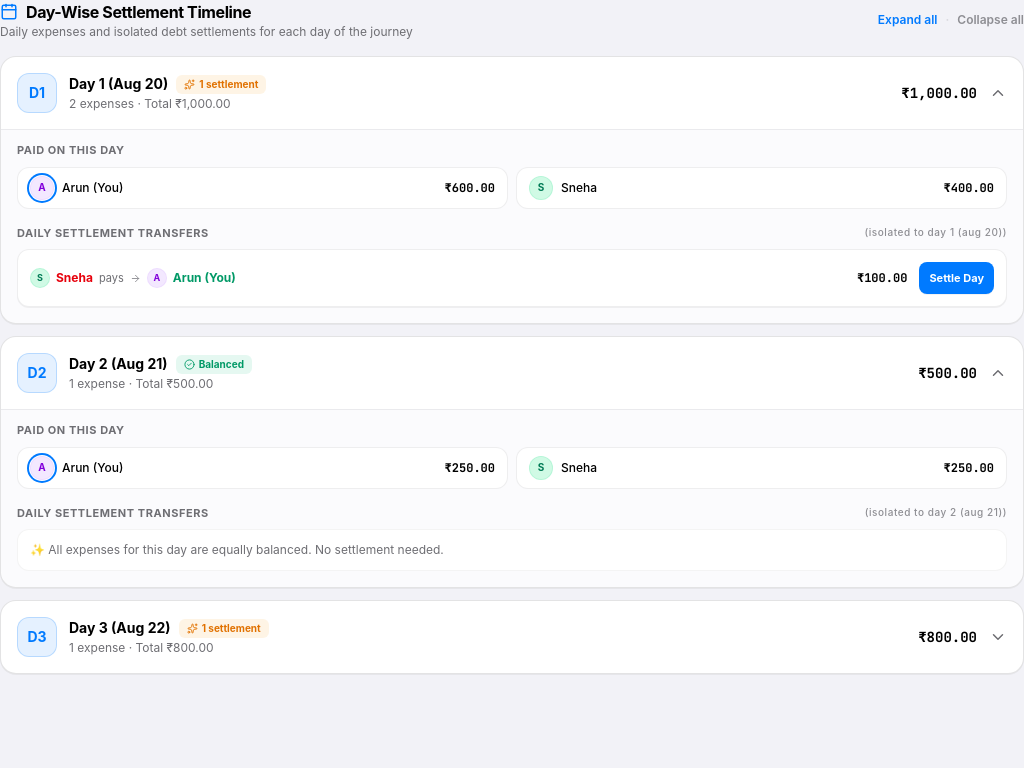
Scenario: Empirical Challenger M2: Accordions & Modal Dialog Stress Harness › Task 1: Zero-Popping CSS Grid Accordions › DailyBreakdown implements CSS Grid spring container without DOM unmounting
The image size is (1024, 768).
Expected: the element with id "day-content-2026-08-20" is shown, [1,129,1023,323]
Click the button with id "day-header-2026-08-22" at (37, 637), box [1,601,1023,673]
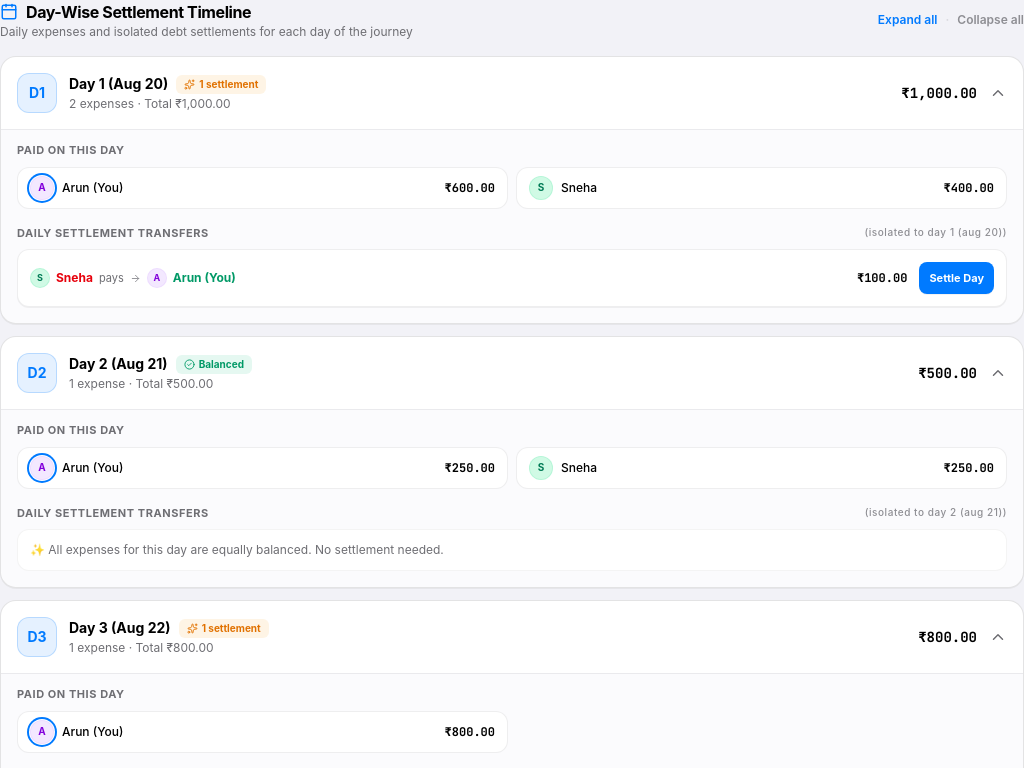
Result: the button with id "day-header-2026-08-22" is expanded
# Toggle back to collapse
Click the button with id "day-header-2026-08-22" at (37, 637), box [1,601,1023,673]
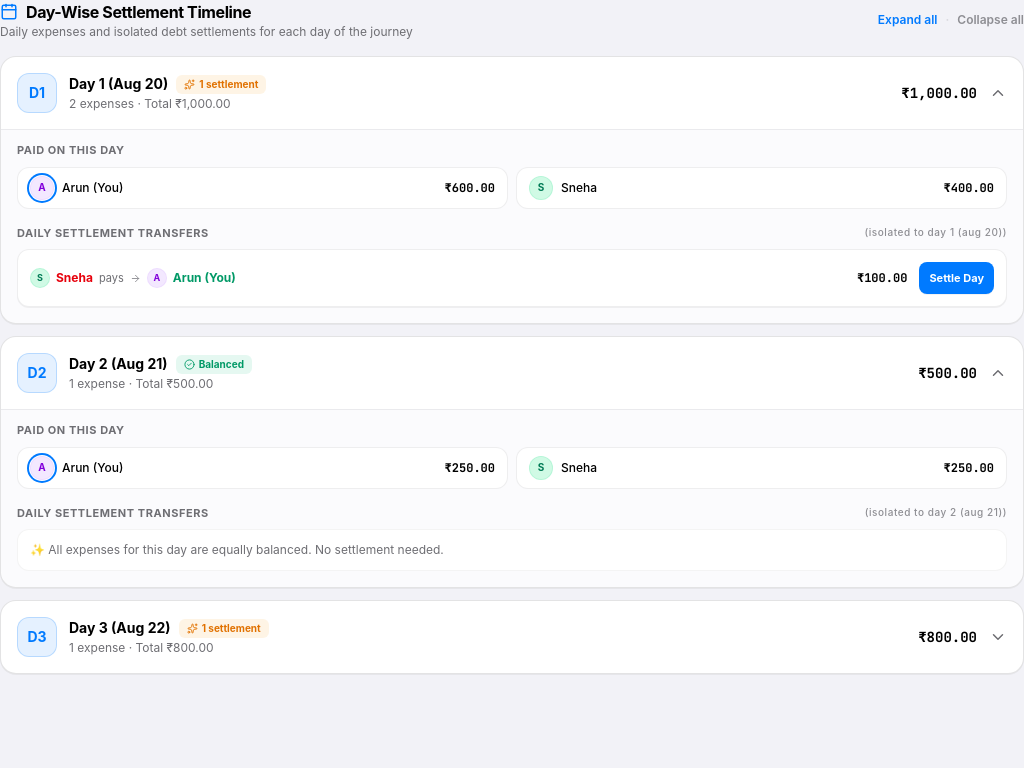
Result: the button with id "day-header-2026-08-22" is collapsed at [1,601,1023,673]
